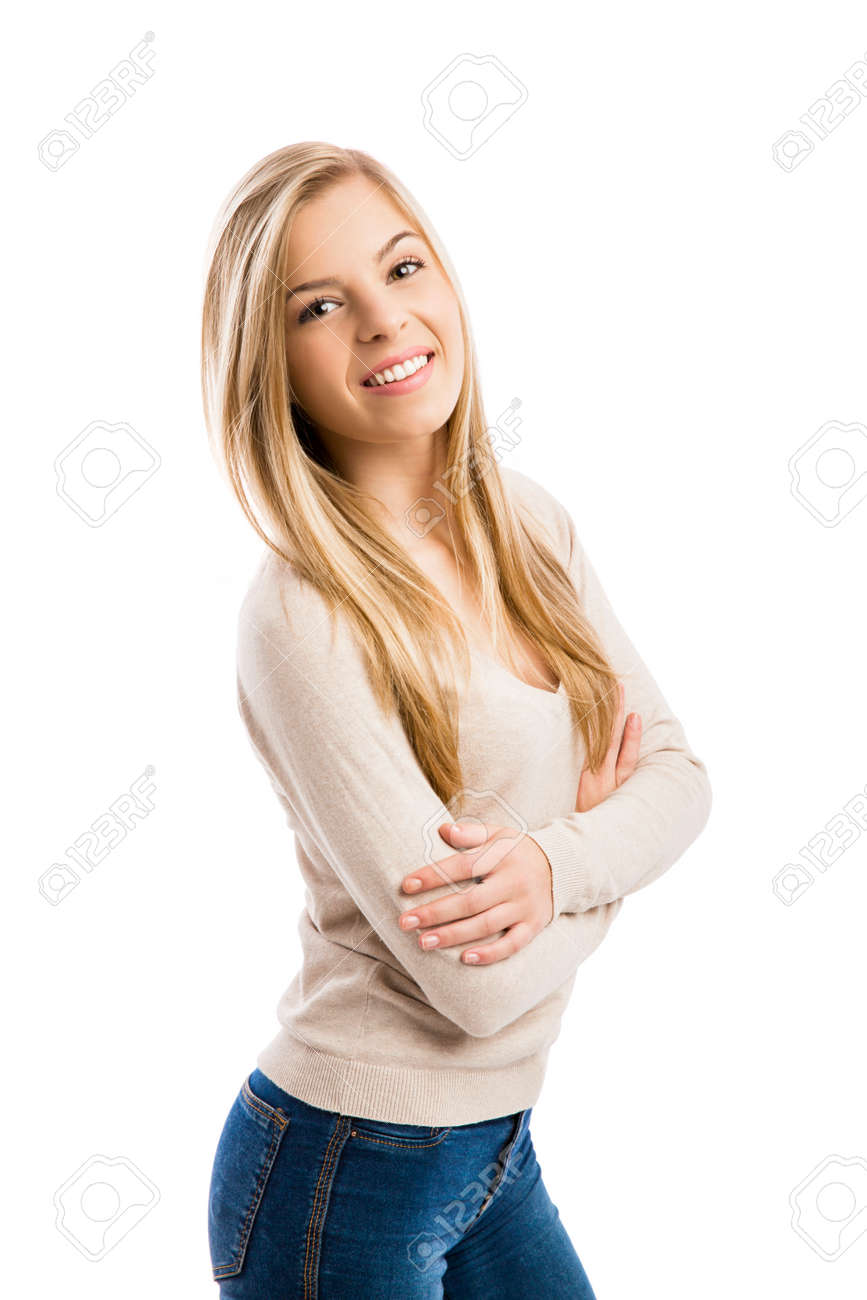person: (183, 132, 724, 1300)
